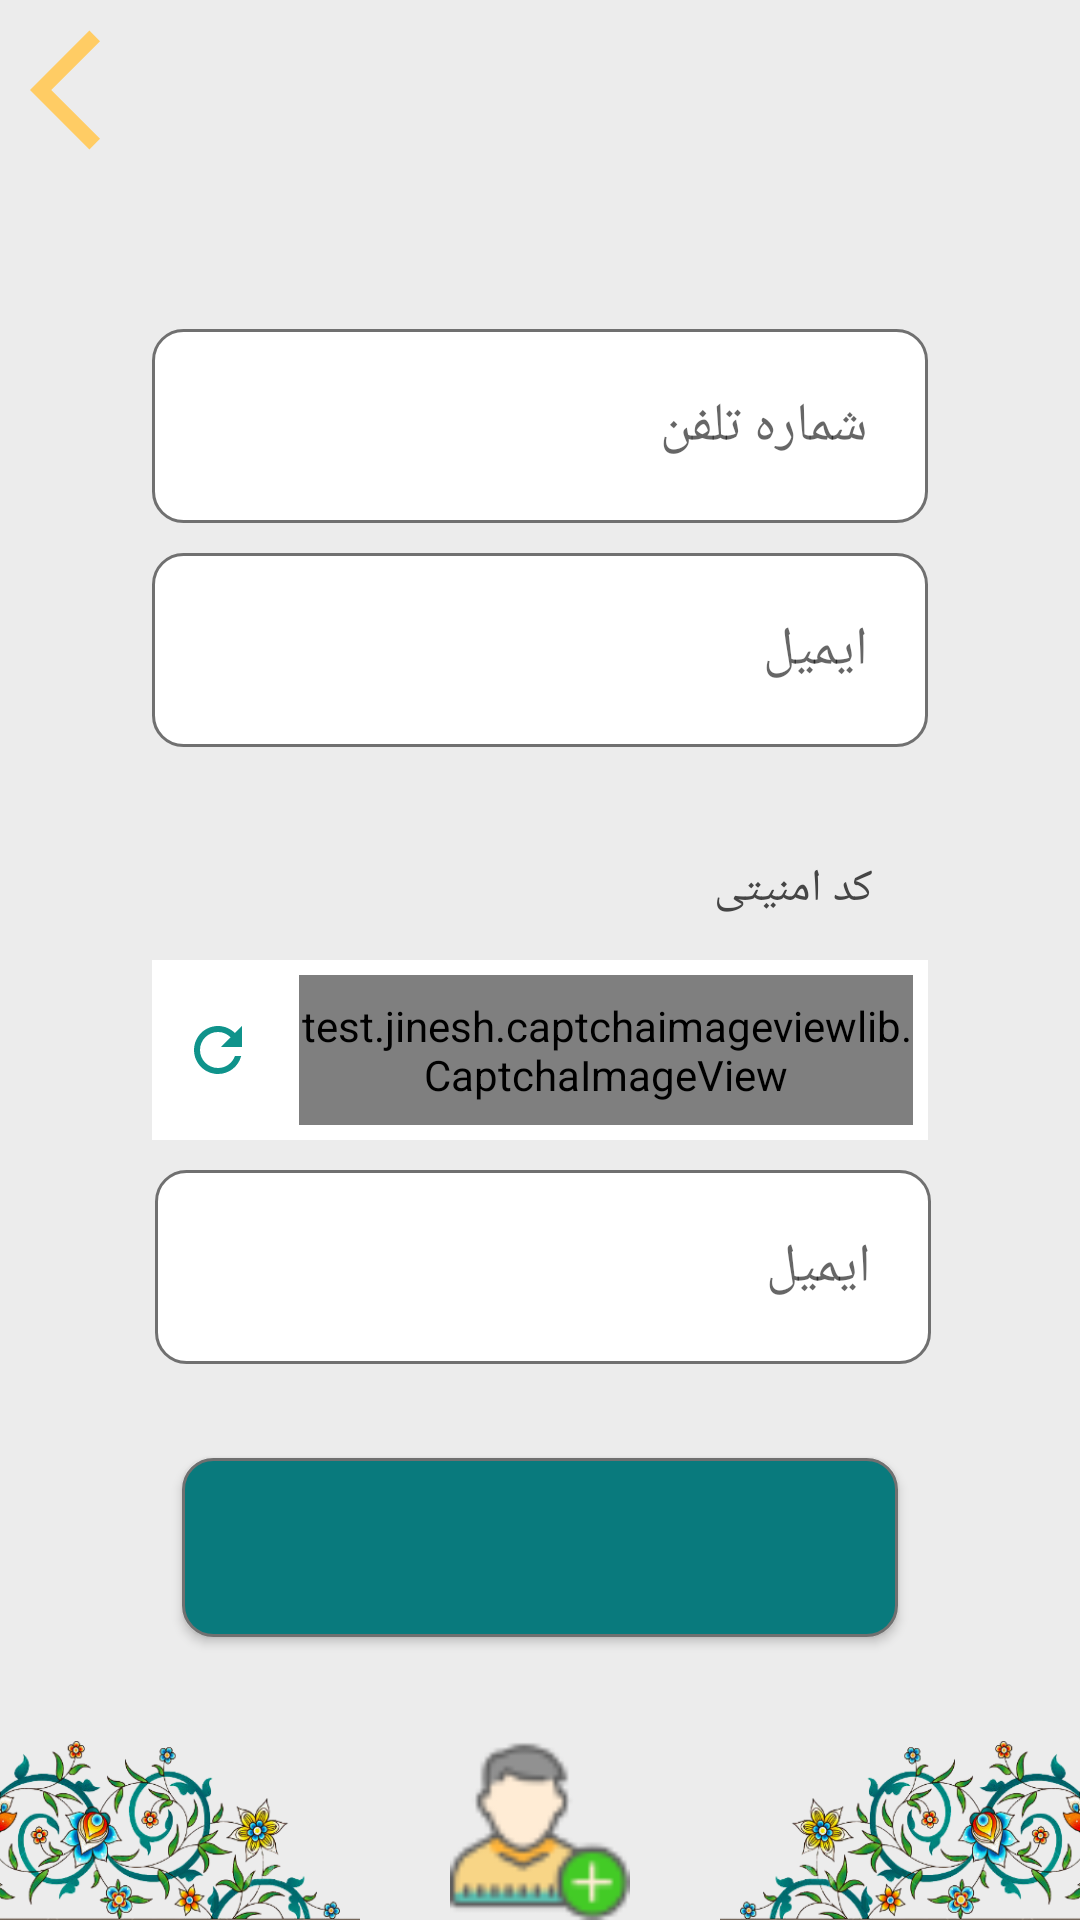

Point at icon controls on the screen. Image size 1080x1920, points as (x=x, y=y).
arrow back: (x=65, y=90)
flower bottom left: (x=180, y=1830)
flower bottom right: (x=900, y=1830)
refresh: (x=218, y=1050)
register: (x=540, y=1831)
